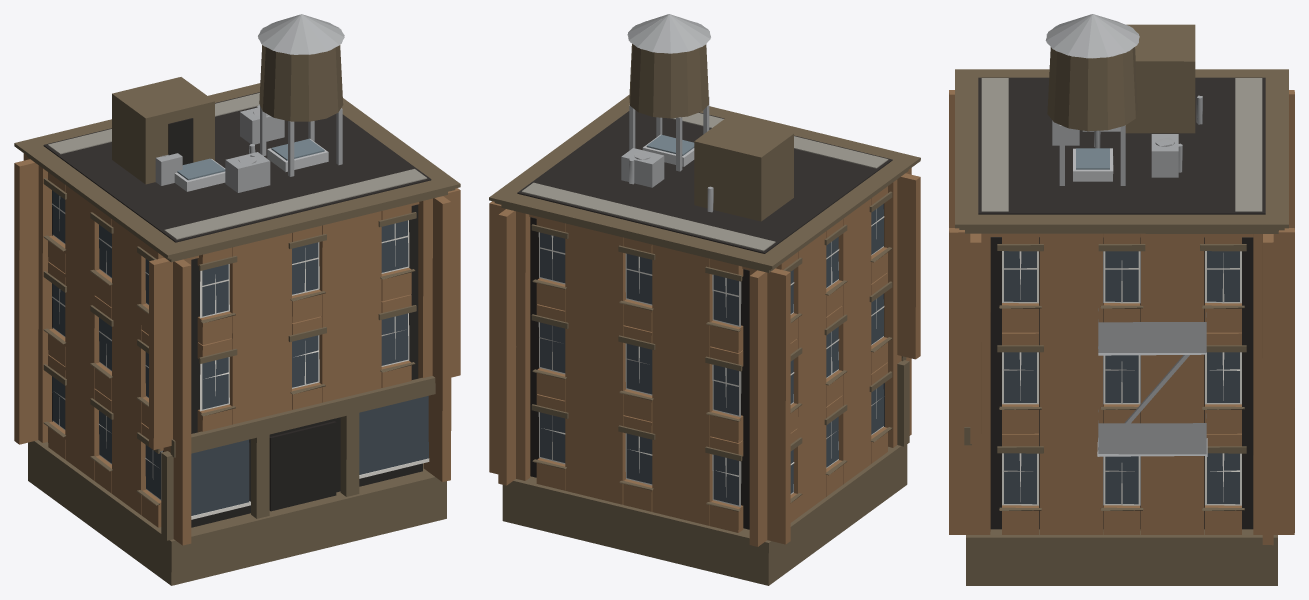
File: brick-block-lod1.glb
The picture shows the model from 3 angles, left to right: view 1: azimuth 30°, elevation 25°; view 2: azimuth 150°, elevation 25°; view 3: azimuth 270°, elevation 25°; orthographic projection. The views are drawn at different scales.
Parts seen in each view (by area): view 1: brick-block.001; view 2: brick-block.001; view 3: brick-block.001.
Boxes of the visible parts, x1,y1,x2,y2 form: brick-block.001: (14, 14, 460, 585); brick-block.001: (489, 14, 920, 585); brick-block.001: (949, 14, 1294, 585).
Size of the model in its own units: 12.1 by 17.15 by 10.22.
